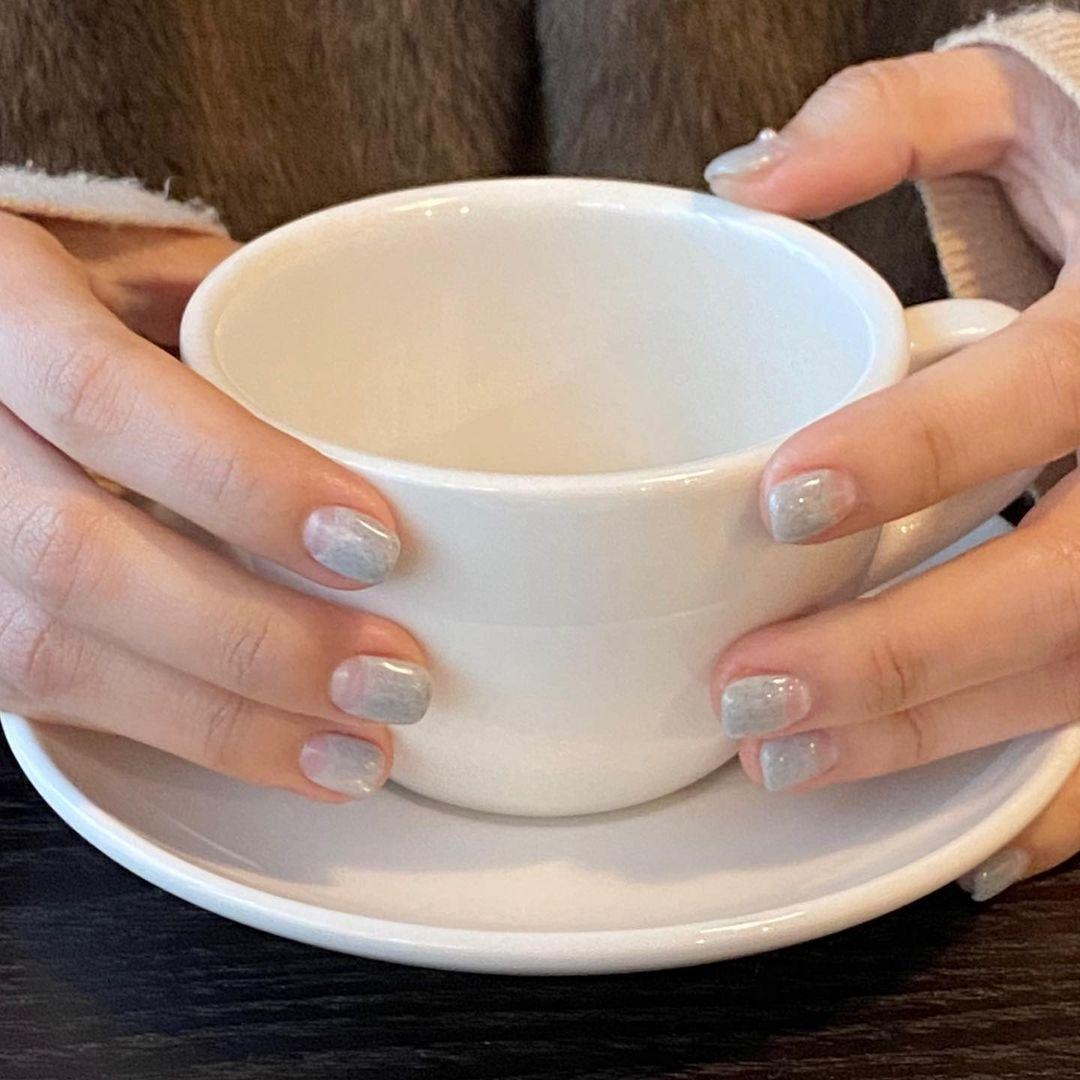nail: (300, 503, 401, 585), (327, 651, 432, 725), (765, 466, 856, 543), (296, 729, 389, 798), (718, 671, 810, 739), (757, 728, 838, 792), (702, 126, 787, 182), (957, 844, 1030, 902)
